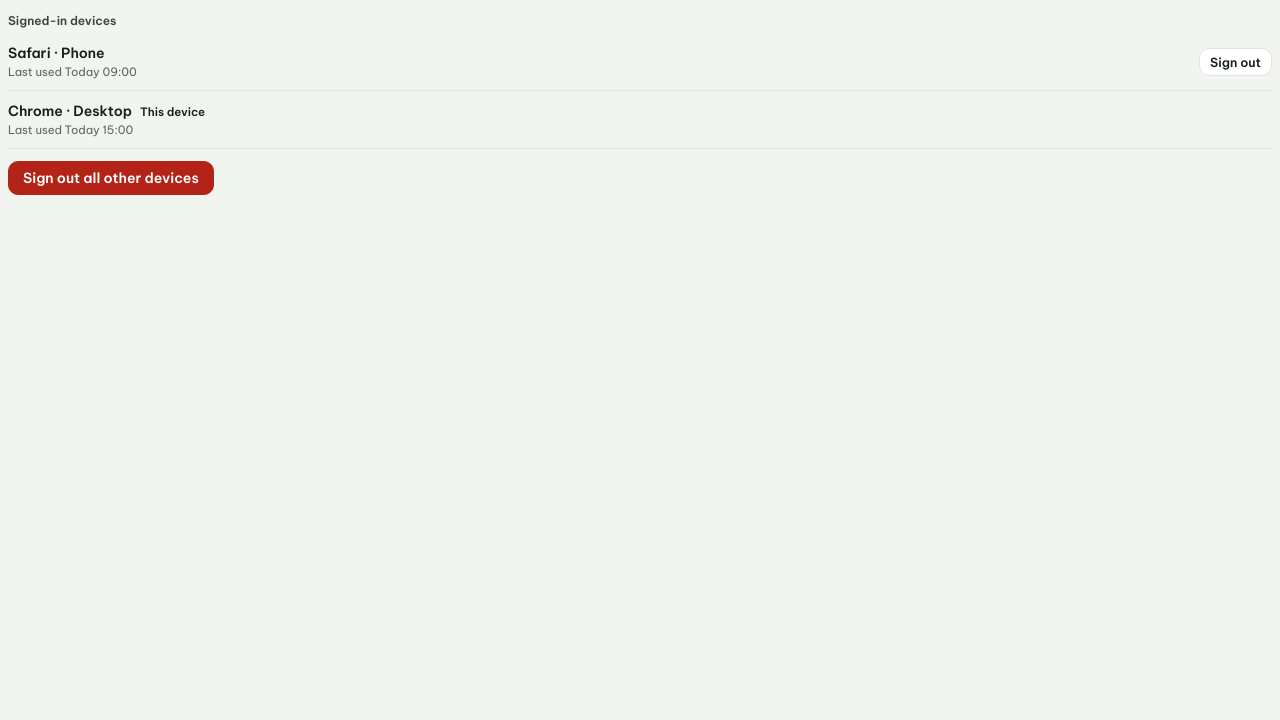
the confirmation for one device (R17) › names the device and the question; Cancel, Esc and an outside press send nothing
The image size is (1280, 720).
Click the button with aria-label "Sign out Safari".
click(1236, 62)  # box [1199,48,1272,76]
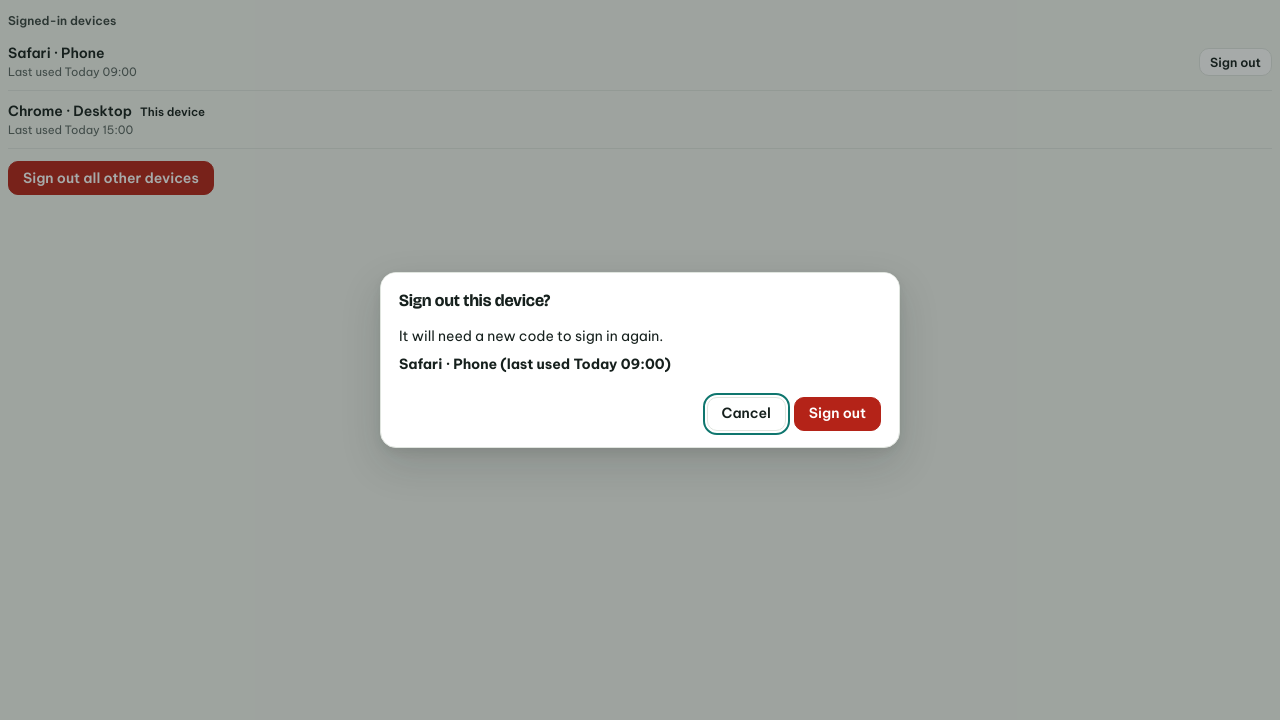
Check: the dialog shows "Sign out this device?", box [399,290,550,311]
Check: the dialog shows "Safari · Phone (last used Today 09:00)", box [399,355,671,373]
Click the button "Cancel".
click(746, 414)  # box [706,397,786,431]
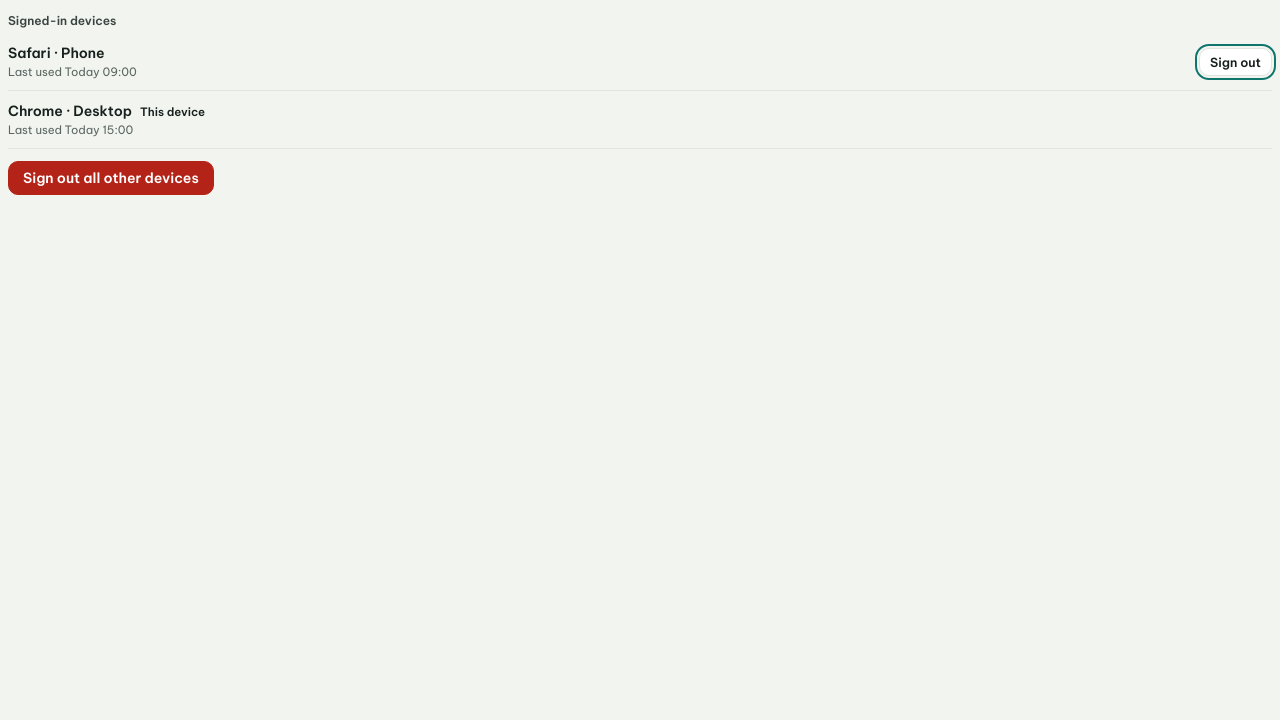
Check: the dialog is gone
Click the button with aria-label "Sign out Safari".
click(1236, 62)  # box [1199,48,1272,76]
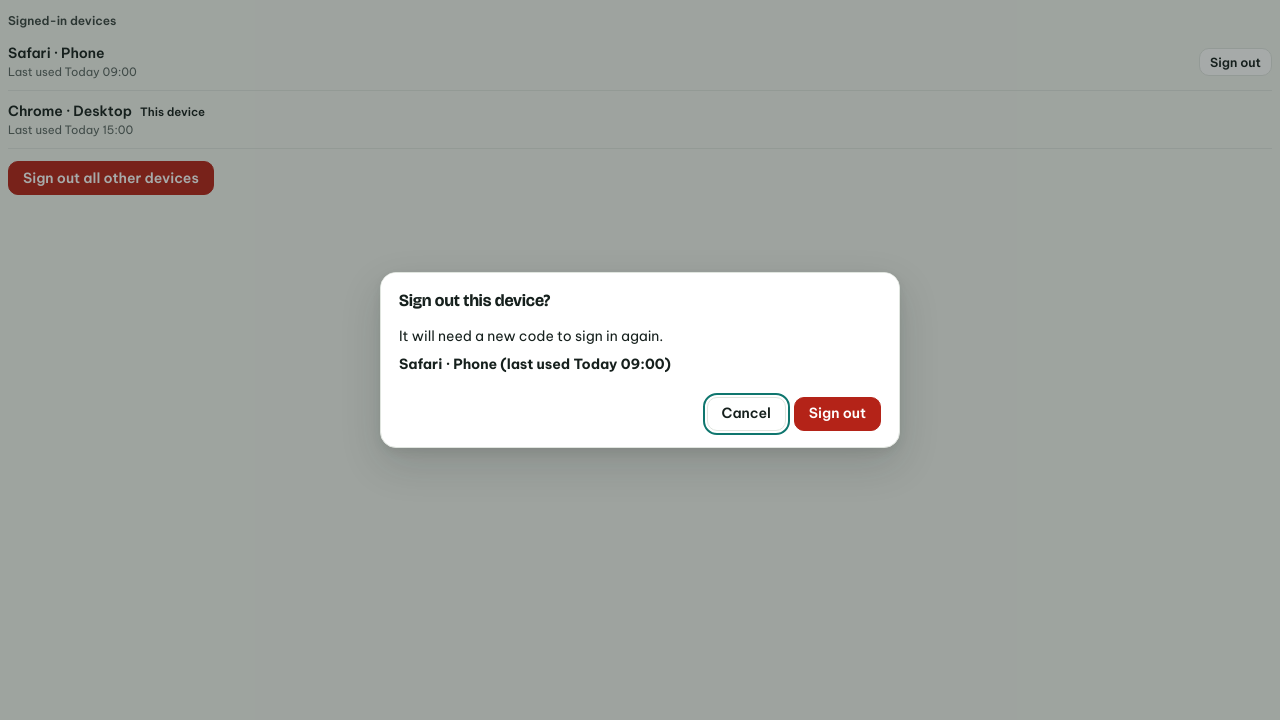
Check: the dialog shows "Sign out this device?", box [399,290,550,311]
Check: the dialog shows "Safari · Phone (last used Today 09:00)", box [399,355,671,373]
Press Escape
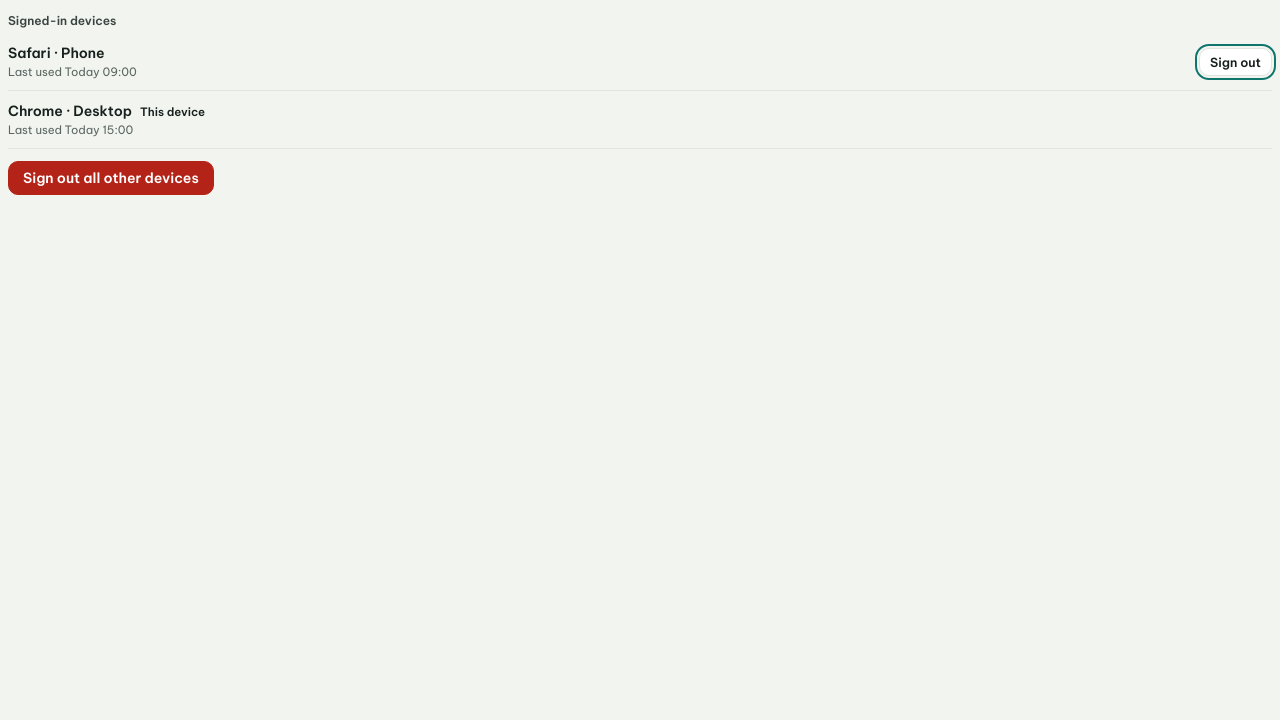
Check: the dialog is gone
Click the button with aria-label "Sign out Safari".
click(1236, 62)  # box [1199,48,1272,76]
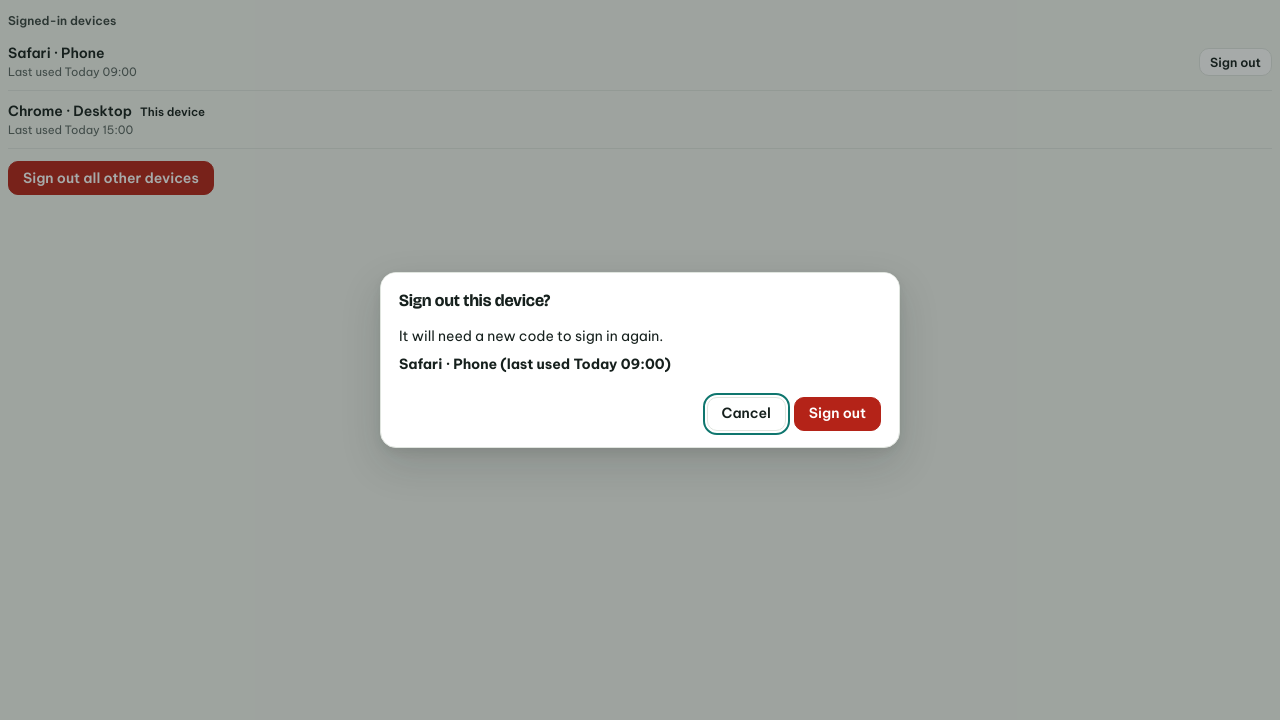
Check: the dialog shows "Sign out this device?", box [399,290,550,311]
Check: the dialog shows "Safari · Phone (last used Today 09:00)", box [399,355,671,373]
Click the element that starts with "Sign out this device?".
click(77, 360)  # box [0,0,1279,719]
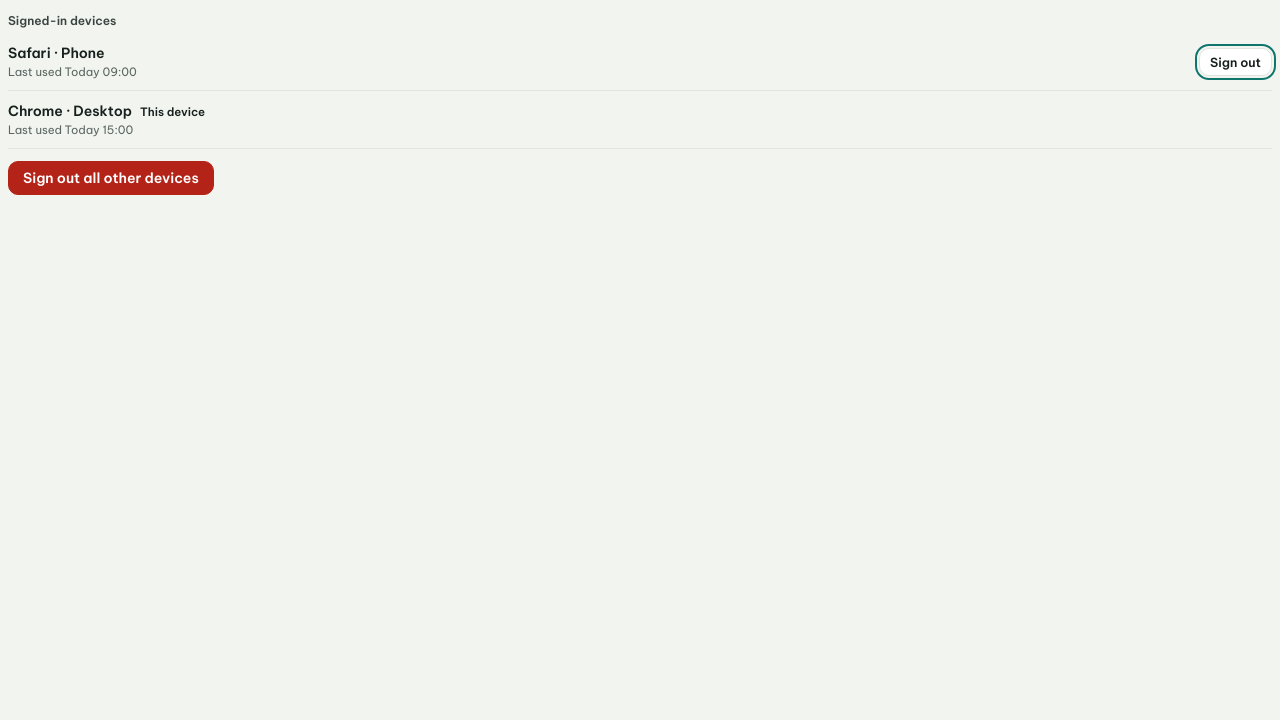
Check: the dialog is gone
